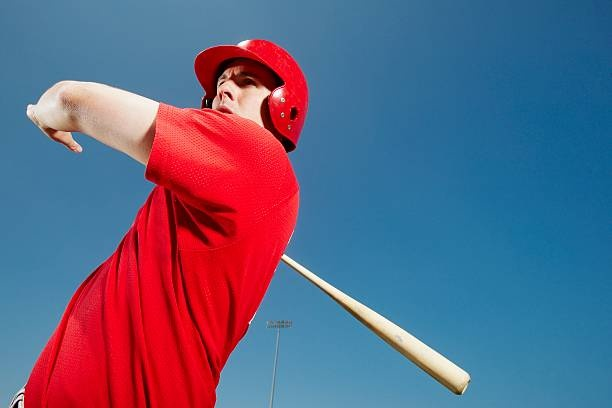bita: (275, 250, 464, 401)
